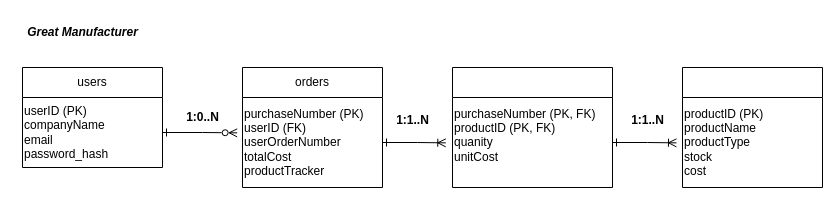
Some shapes in this 840 by 205 pixel diagram are drawn without their labels. Here are the shapes that lost their labels. From the top down, the box of each, then its label:
(452, 66, 612, 188): orderItems
(682, 66, 822, 188): products
